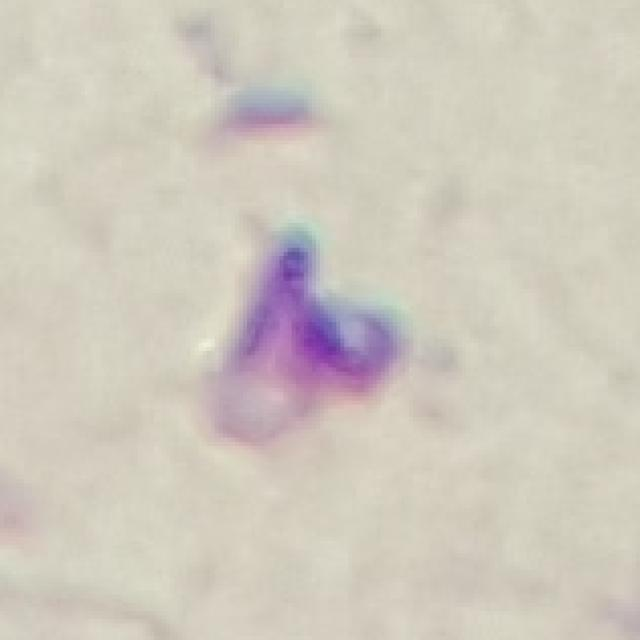non-sperm: (174, 222, 408, 441)
